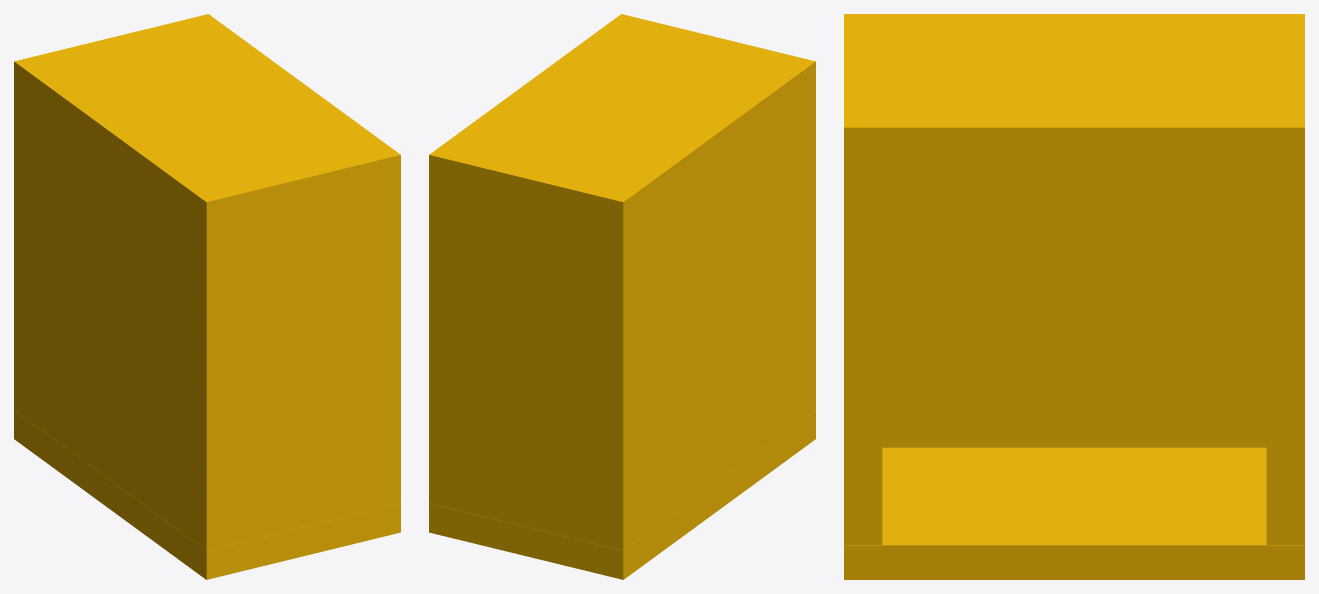
Rendered from chassis_carrier_lift_personel_phys.dae.
The picture shows the model from 3 angles, left to right: view 1: azimuth 30°, elevation 25°; view 2: azimuth 150°, elevation 25°; view 3: azimuth 270°, elevation 25°; orthographic projection. The views are drawn at different scales.
Visible parts, largest first — view 1: group_4, group_5, group_2, group_1, group_3; view 2: group_3, group_5, group_2, group_1, group_4; view 3: group_5, group_2, group_1, group_3, group_4.
Part boxes in pixels (left/top/right/bottom): group_4: left=190, top=184, right=400, bottom=550; group_5: left=30, top=102, right=190, bottom=538; group_2: left=14, top=14, right=400, bottom=231; group_1: left=14, top=410, right=400, bottom=579; group_3: left=14, top=90, right=29, bottom=421; group_3: left=429, top=184, right=639, bottom=550; group_5: left=639, top=102, right=799, bottom=538; group_2: left=429, top=14, right=815, bottom=231; group_1: left=429, top=410, right=815, bottom=579; group_4: left=800, top=90, right=815, bottom=421; group_5: left=882, top=162, right=1266, bottom=447; group_2: left=844, top=14, right=1304, bottom=162; group_1: left=844, top=447, right=1304, bottom=579; group_3: left=1266, top=162, right=1304, bottom=544; group_4: left=844, top=162, right=882, bottom=544.
Size of the model in its own units: 55.12 by 94.49 by 102.
